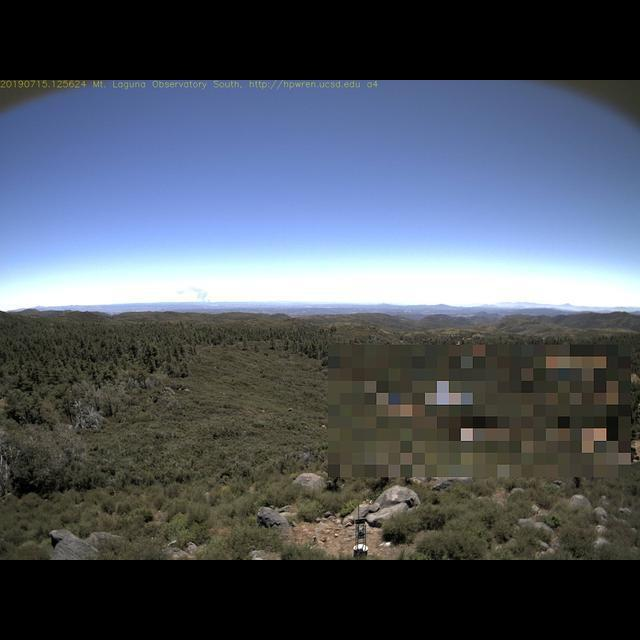Smoke: (172, 283, 220, 308)
